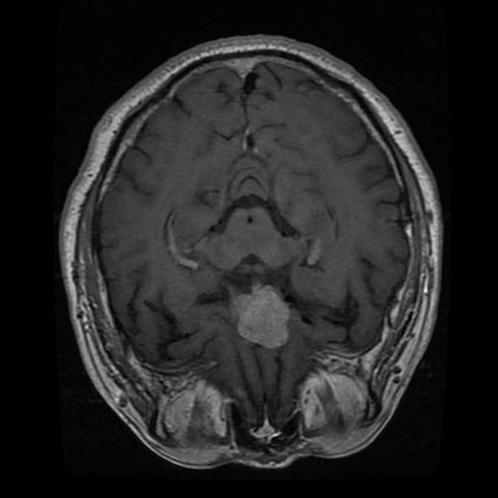Tumour-Pituitary: (216, 277, 311, 349)
